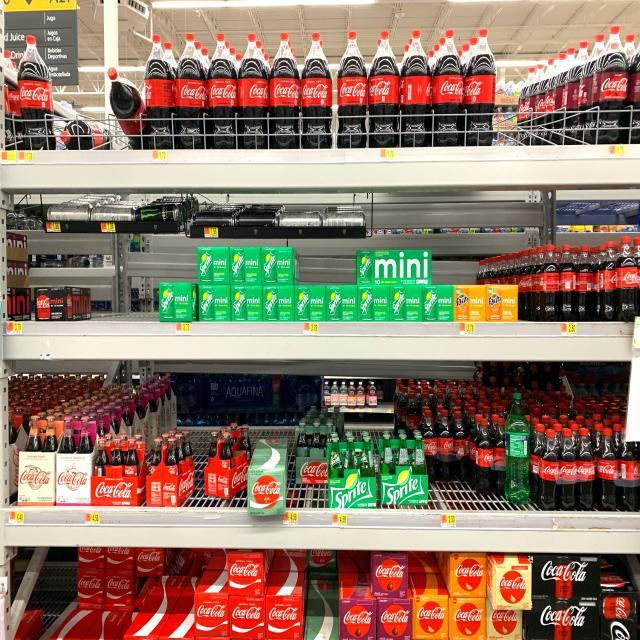Imprecise: (65, 545, 168, 640), (422, 414, 501, 510), (190, 424, 248, 510), (106, 66, 148, 152), (504, 390, 532, 504), (293, 432, 332, 508), (59, 114, 111, 152)
